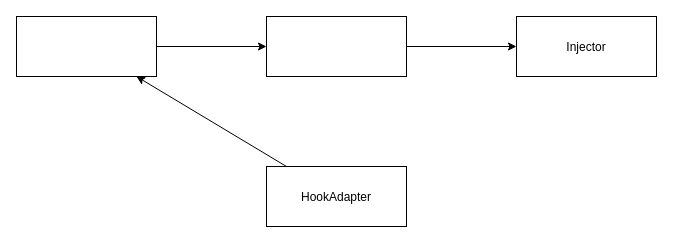
Some shapes in this 673 by 243 pixel diagram are drawn without their labels. Each missing label, with the box of its shape:
CacheManager: (266, 16, 406, 76)
PatternParser: (16, 16, 156, 76)
